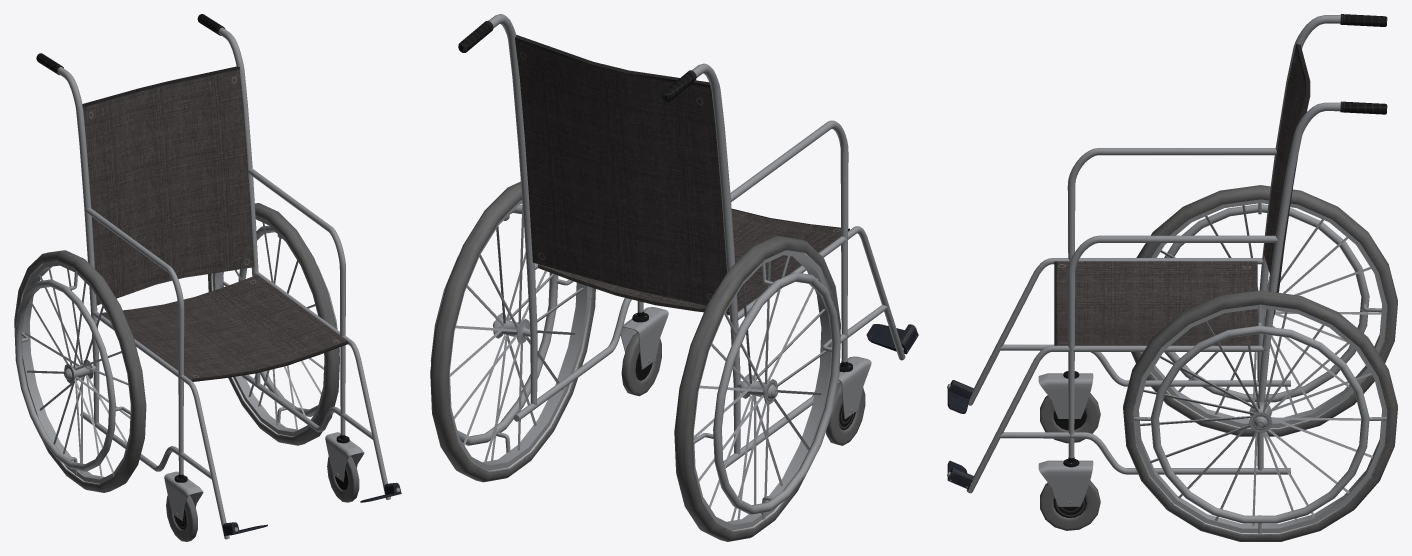
Rendered from wheelchair.glb.
3 renders of one model, left to right at view 1: azimuth 30°, elevation 25°; view 2: azimuth 150°, elevation 25°; view 3: azimuth 270°, elevation 25°, orthographic. The views are drawn at different scales.
Parts seen in each view (by area): view 1: chair, wheelR, wheelL; view 2: chair, wheelR, wheelL; view 3: chair, wheelL, wheelR.
Boxes of the visible parts, <box> form: chair: <box>36,14,401,541</box>; wheelR: <box>14,250,146,492</box>; wheelL: <box>208,203,339,445</box>; chair: <box>458,14,918,468</box>; wheelR: <box>674,236,840,541</box>; wheelL: <box>430,181,595,482</box>; chair: <box>947,14,1387,530</box>; wheelL: <box>1123,290,1397,541</box>; wheelR: <box>1131,185,1397,436</box>.
Bounding box in the file's own units: 0.6854 × 1.1 × 1.05.
Materials: 1 (1 with a texture image).
